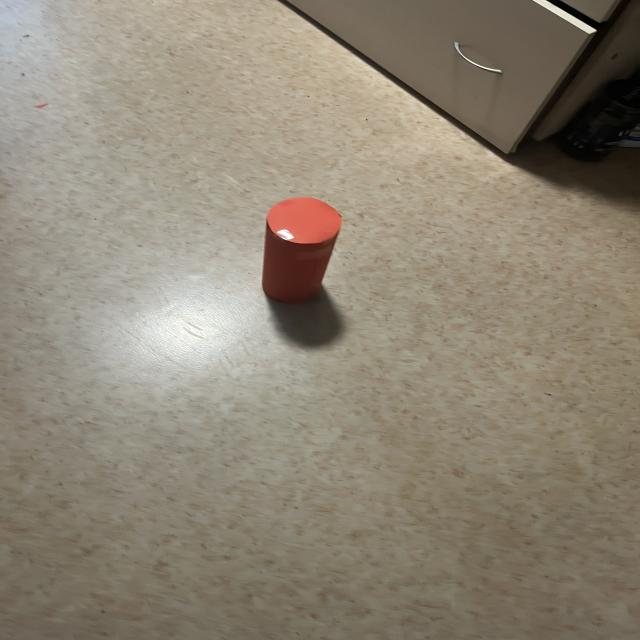przeszkoda: (262, 197, 341, 303)
